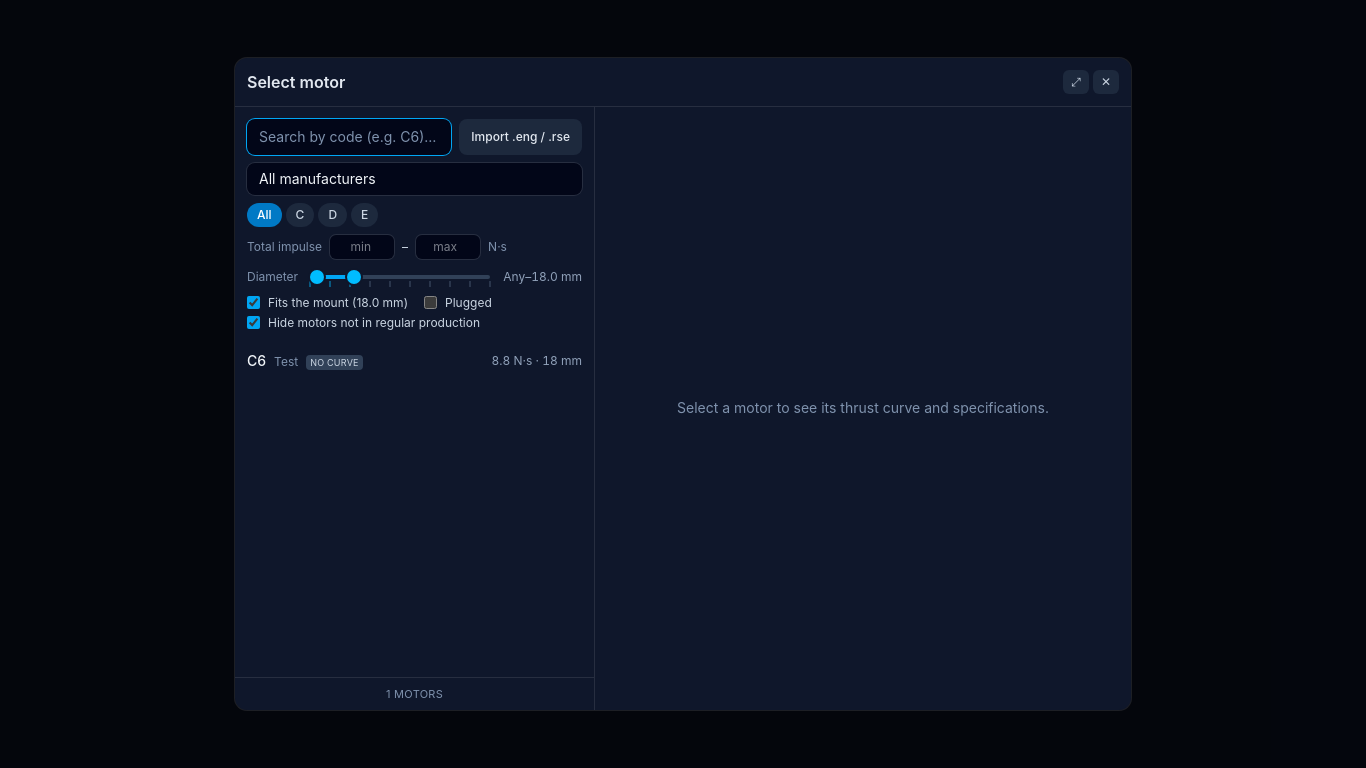
Scenario: the motor picker filters by what fits the mount › pulls the diameter ceiling down to the mount, and gives it back
The width and height of the screenshot is (1366, 768).
Check: the slider named "Diameter max" holds "2", box [310,267,490,287]
Step 1. Click the checkbox labelled "Fits the mount (18.0 mm)" → (254, 303), box [247,296,260,309]
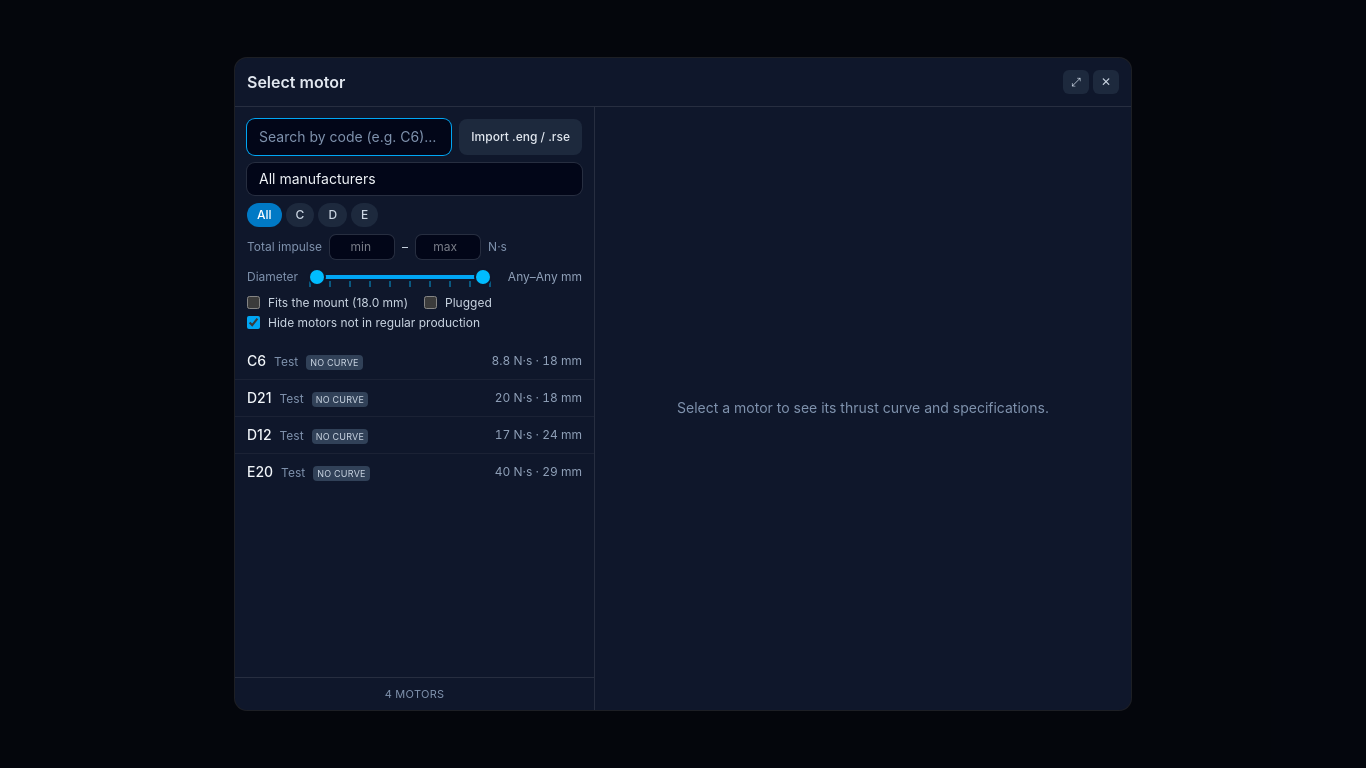
Check: the slider named "Diameter max" holds "9", box [310,267,490,287]
Check: the element showing "Diameter Any–Any mm" is shown, box [247,267,582,287]
Step 2. Click the checkbox labelled "Fits the mount (18.0 mm)" → (254, 303), box [247,296,260,309]
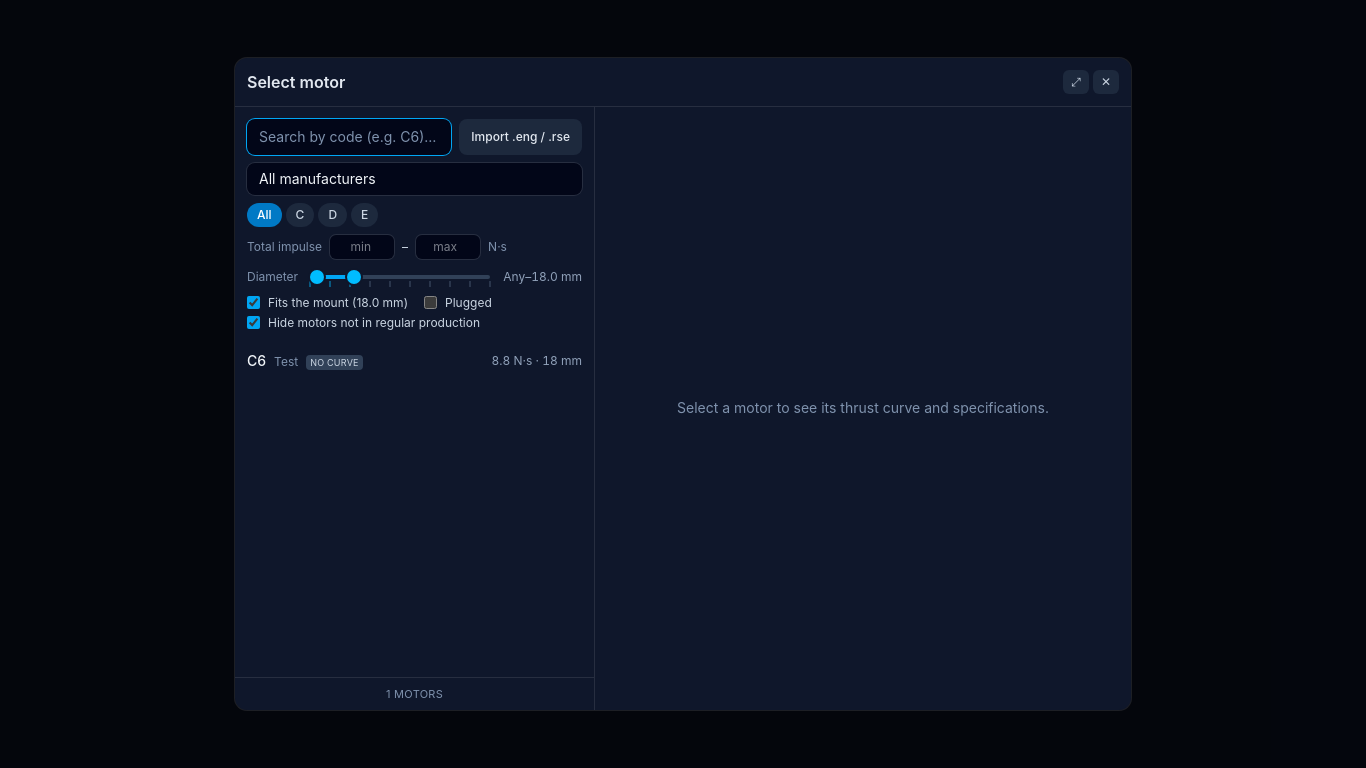
Check: the slider named "Diameter max" holds "2", box [310,267,490,287]
Check: the element showing "Diameter Any–18.0 mm" is shown, box [247,267,582,287]
